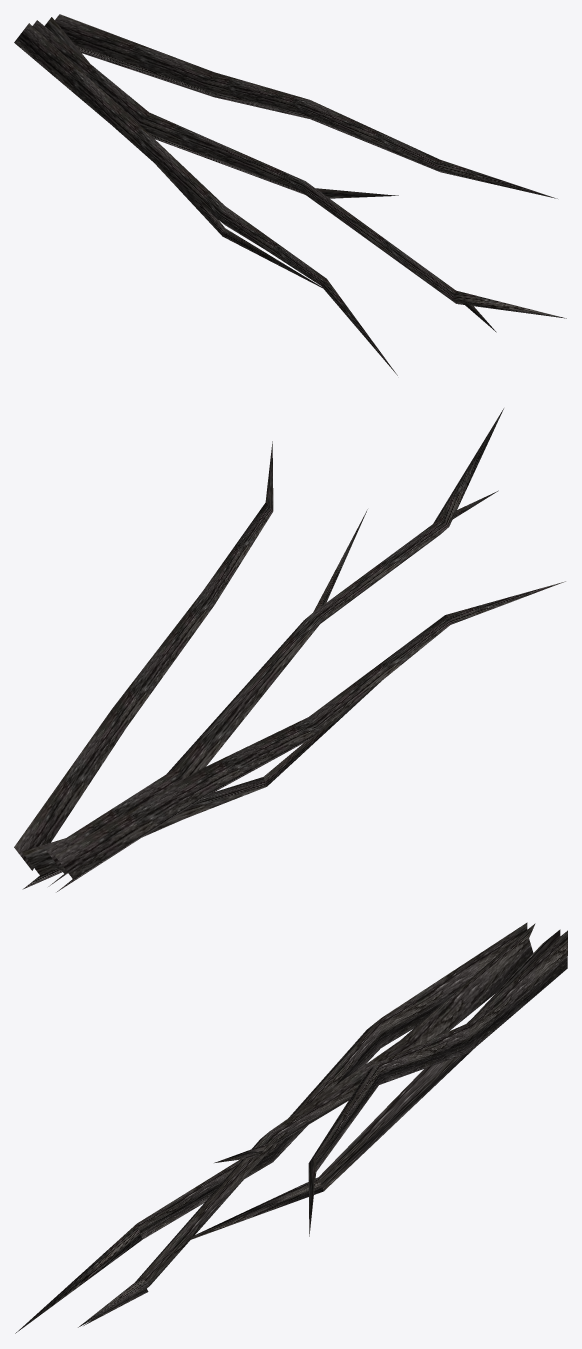
Rendered from Tree05.glb.
The picture shows the model from 3 angles, top to bottom: view 1: azimuth 30°, elevation 25°; view 2: azimuth 150°, elevation 25°; view 3: azimuth 330°, elevation 25°; orthographic projection. The views are drawn at different scales.
Parts seen in each view (by area): view 1: model_Tree05; view 2: model_Tree05; view 3: model_Tree05.
Part boxes in pixels (x1=…): model_Tree05: x1=14, y1=14, x2=566, y2=375; model_Tree05: x1=14, y1=408, x2=565, y2=892; model_Tree05: x1=15, y1=922, x2=567, y2=1333.
Size of the model in its own units: 0.9053 by 0.5757 by 3.55.
Materials: 1 (1 with a texture image).
